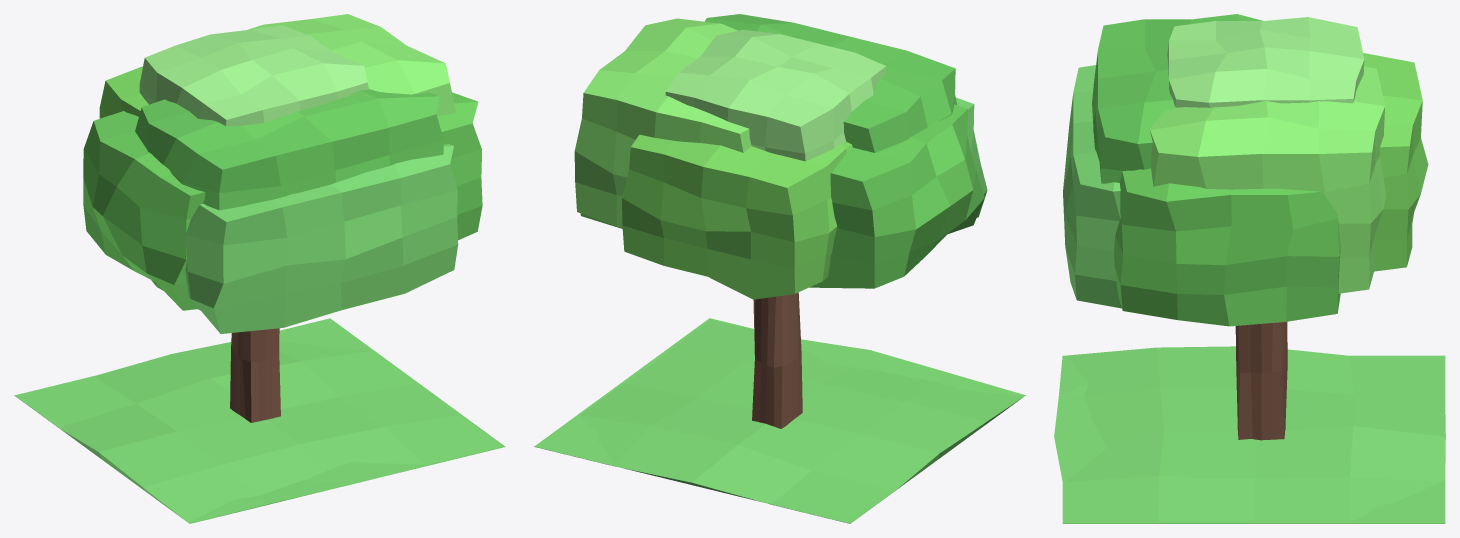
Rendered from low_poly_tree_3d_model_with_grass.glb.
3 views of the same model, side by side, from view 1: azimuth 30°, elevation 25°; view 2: azimuth 150°, elevation 25°; view 3: azimuth 270°, elevation 25° (orthographic). The views are drawn at different scales.
Parts seen in each view (by area): view 1: base, leaves6, leaves5, leaves4, leaves, leaves2, trunk, leaves3; view 2: base, leaves3, leaves4, leaves, leaves2, leaves5, trunk, leaves6; view 3: base, leaves4, leaves2, leaves, leaves5, leaves6, leaves3, trunk.
Boxes of the visible parts, <box> form: base: <box>14,318,505,523</box>; leaves6: <box>151,144,458,333</box>; leaves5: <box>135,89,443,210</box>; leaves4: <box>83,92,482,310</box>; leaves: <box>139,25,368,126</box>; leaves2: <box>247,14,456,116</box>; trunk: <box>230,328,280,422</box>; leaves3: <box>99,66,148,118</box>; base: <box>534,318,1025,523</box>; leaves3: <box>622,134,852,299</box>; leaves4: <box>580,104,984,288</box>; leaves: <box>665,29,886,161</box>; leaves2: <box>574,18,751,227</box>; leaves5: <box>705,14,956,152</box>; trunk: <box>752,292,802,428</box>; leaves6: <box>955,97,987,217</box>; base: <box>1054,346,1445,523</box>; leaves4: <box>1114,168,1341,326</box>; leaves2: <box>1150,66,1386,293</box>; leaves: <box>1167,17,1364,107</box>; leaves5: <box>1092,14,1262,183</box>; leaves6: <box>1063,65,1121,308</box>; leaves3: <box>1363,53,1428,271</box>; trunk: <box>1235,321,1287,440</box>.
Size of the model in its own units: 344 by 348 by 312.
Materials: 8 (8 with a texture image).
